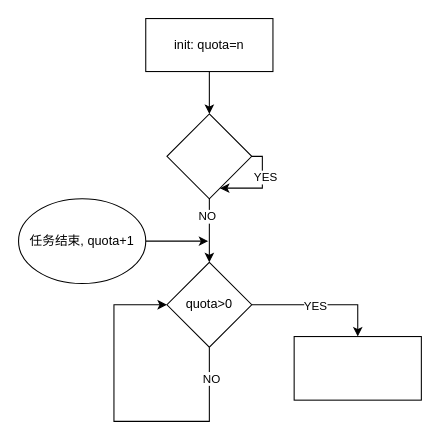
Image size: 440x448. Some labels were removed from this diagram. Each missing label, with the centre of its shape:
任务队列空?: (209,156)
提交任务, quota-1: (357,367)
